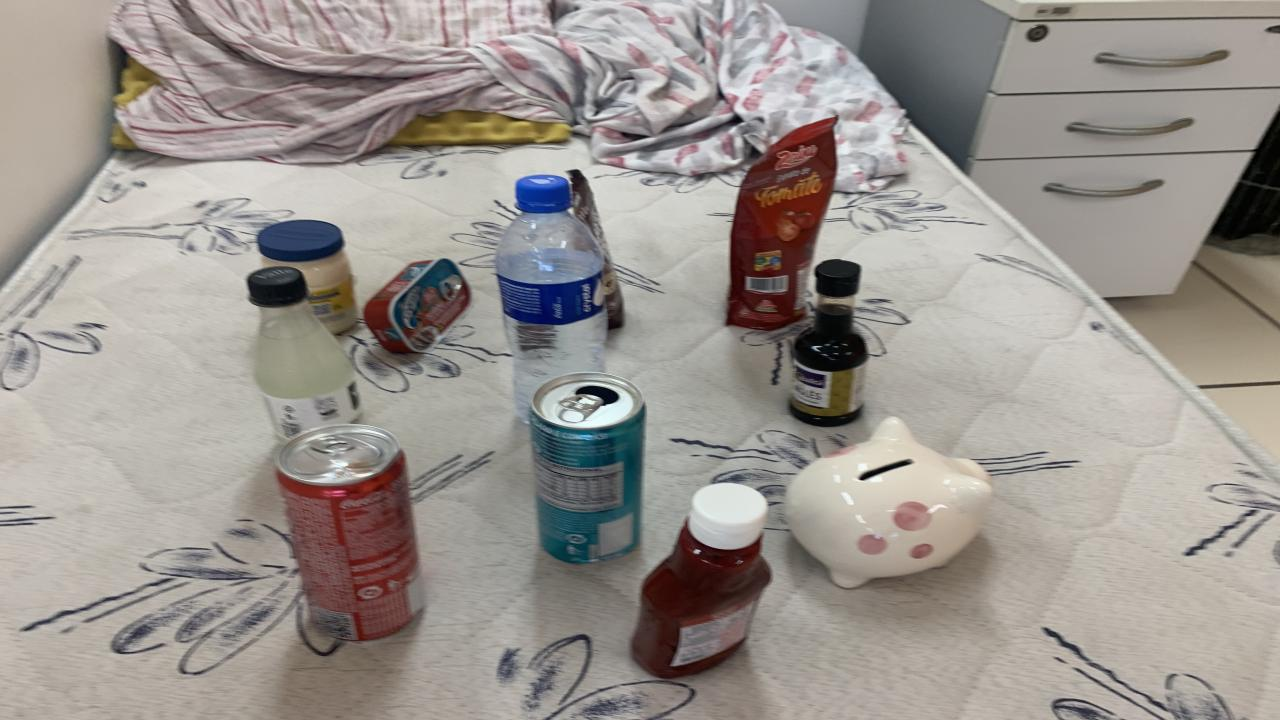Coffee-Pantry_Items: (568, 169, 625, 328)
Coke-Drinks: (275, 424, 425, 641)
English_Sauce-Pantry_Items: (790, 259, 868, 426)
Ketchup-Pantry_Items: (632, 484, 770, 679)
Mayonnaise-Pantry_Items: (258, 219, 358, 334)
Pig_Safe-Miscellaneous: (785, 416, 995, 589)
Soda-Drinks: (248, 266, 360, 441)
Tea-Drinks: (530, 371, 645, 562)
Tomato_Sauce-Pantry_Items: (728, 118, 838, 330)
Tuna_Can-Pantry_Items: (365, 259, 470, 352)
Water_Bottle-Drinks: (495, 174, 608, 418)
